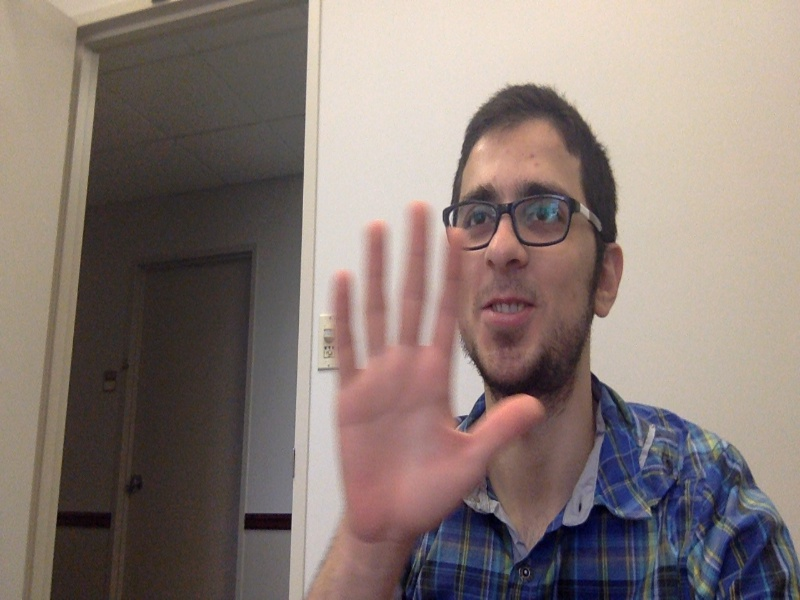5-hand: (325, 202, 545, 550)
